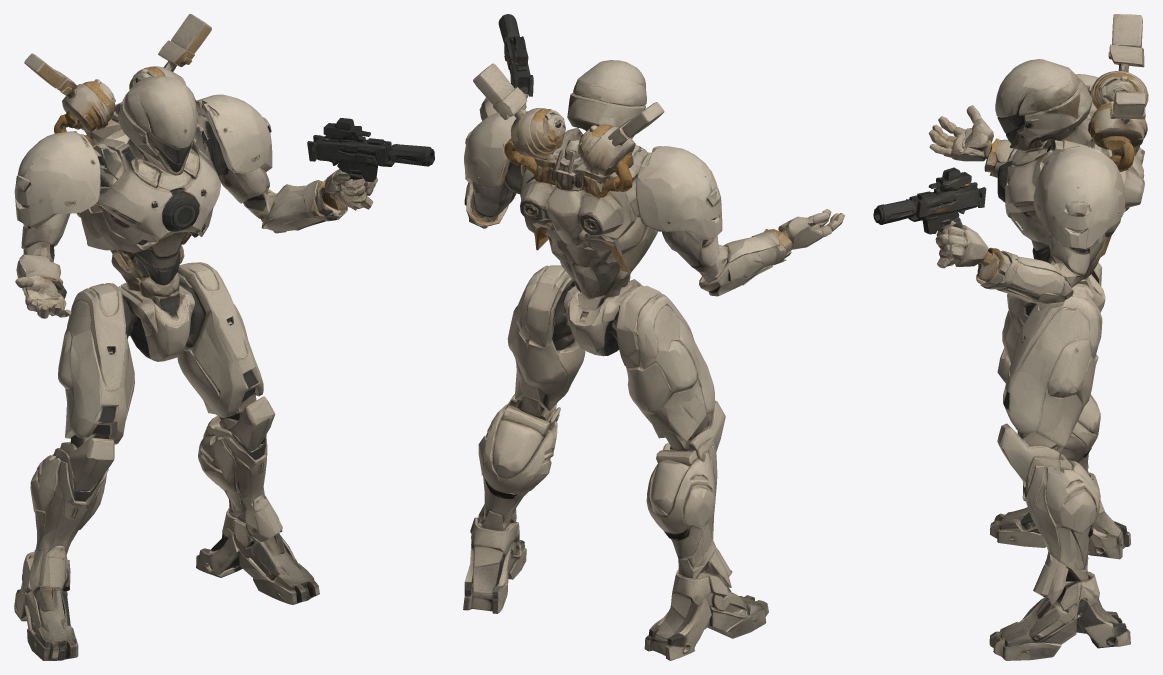
The model's file is sinew.glb.
3 views of the same model, side by side, from view 1: azimuth 30°, elevation 25°; view 2: azimuth 150°, elevation 25°; view 3: azimuth 270°, elevation 25° (orthographic).
Parts seen in each view (by area): view 1: mesh_node; view 2: mesh_node; view 3: mesh_node.
Boxes of the visible parts, x1,y1,x2,y2 form: mesh_node: (14,14,434,660); mesh_node: (463,14,844,660); mesh_node: (873,14,1148,660).
Bounding box in the file's own units: 1.36 × 1.9 × 0.8761.
Materials: 1 (1 with a texture image).
